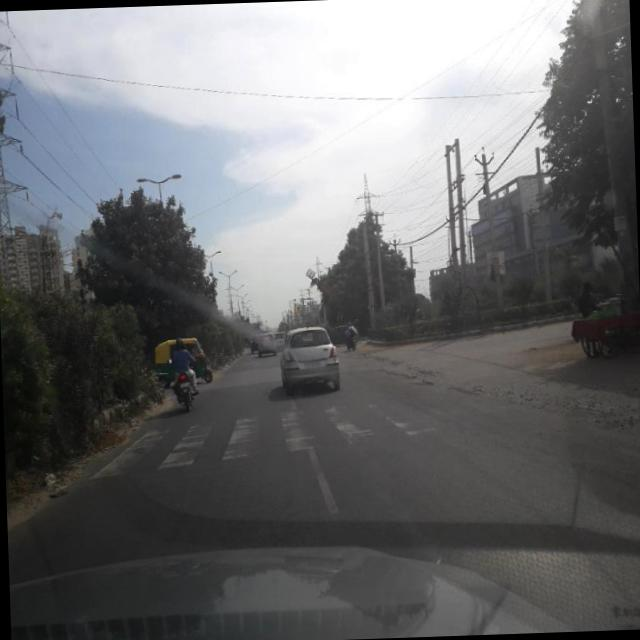crack: (26, 443, 640, 562)
